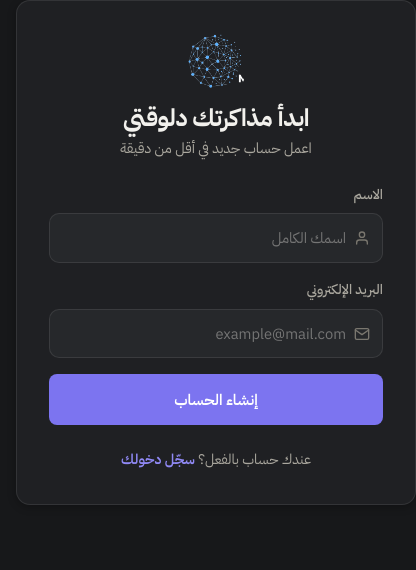
Test: Register › shows validation errors for both fields when submitted empty
Click the button "إنشاء الحساب" at (216, 400), box [49,374,383,425]
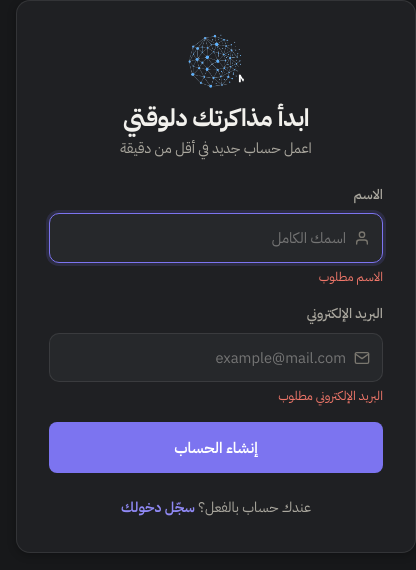
Result: the text "الاسم مطلوب" is shown at [319,267,383,286]
Result: the text "البريد الإلكتروني مطلوب" is shown at [278,386,383,405]
